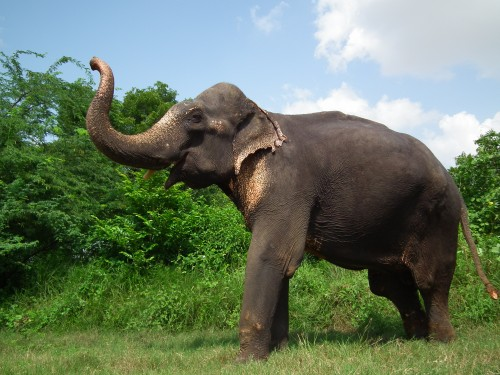Indian Elephant: (75, 45, 500, 361)
